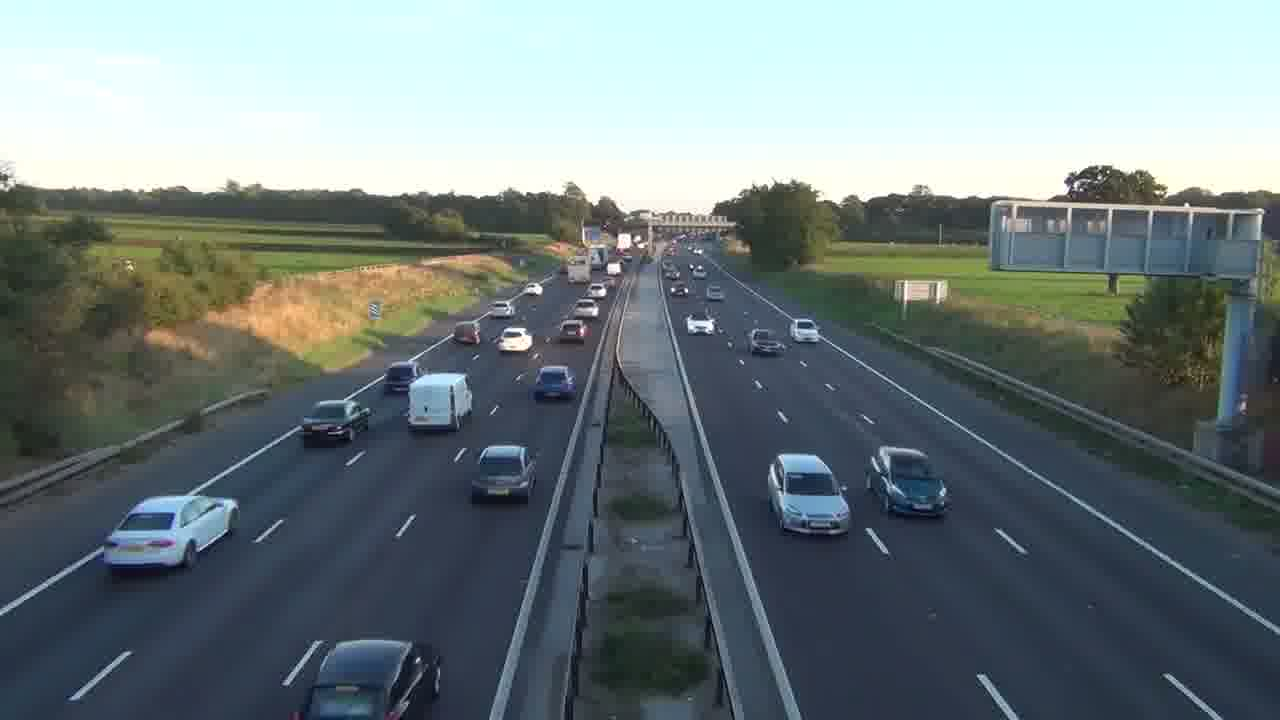car: (294, 636, 444, 718), (102, 493, 240, 575), (767, 452, 852, 536), (865, 445, 949, 518), (470, 444, 537, 503), (301, 398, 369, 447), (530, 365, 578, 401), (789, 317, 821, 343), (558, 320, 588, 343)
truck: (406, 371, 473, 433), (566, 255, 592, 285)
